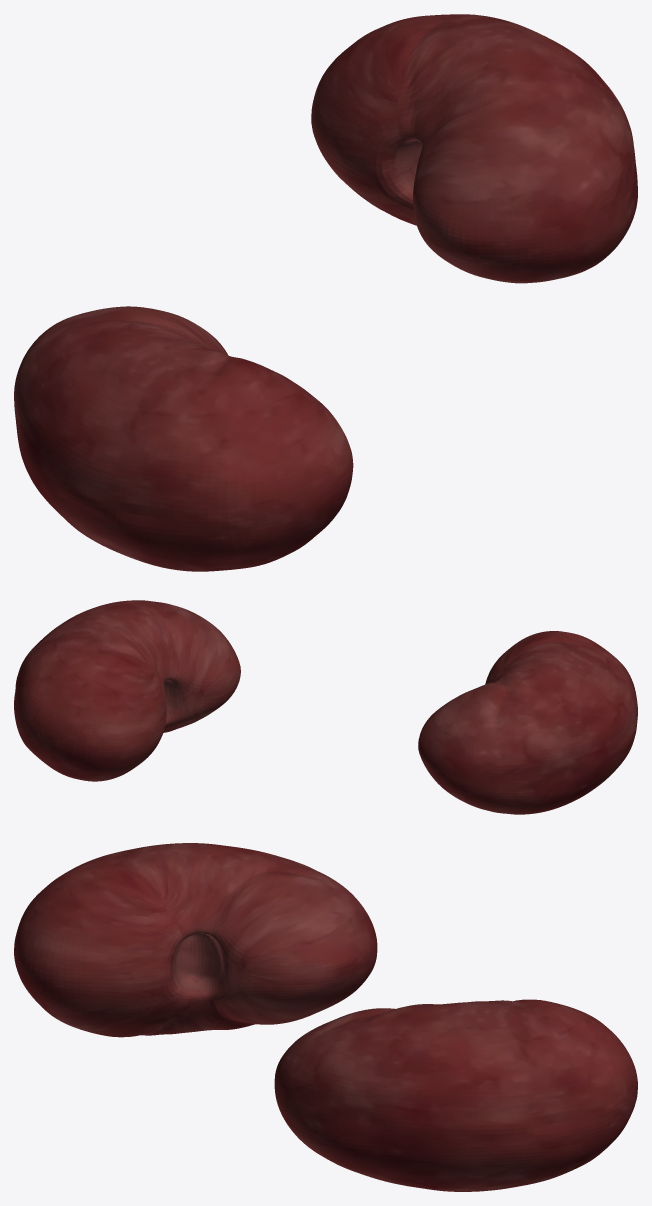
Rendered from Kidneys.glb.
3 renders of one model, top to bottom at view 1: azimuth 30°, elevation 25°; view 2: azimuth 150°, elevation 25°; view 3: azimuth 270°, elevation 25°, orthographic. The views are drawn at different scales.
Parts seen in each view (by area): view 1: ZBrushPolyMesh3D1; view 2: ZBrushPolyMesh3D1; view 3: ZBrushPolyMesh3D1.
Boxes of the visible parts, box(x1,y1,x2,y2) form: ZBrushPolyMesh3D1: box(14, 14, 637, 571); ZBrushPolyMesh3D1: box(14, 600, 637, 814); ZBrushPolyMesh3D1: box(14, 843, 637, 1191).
Size of the model in its own units: 81.97 by 28.8 by 72.97.
1 material, 1 textured.
